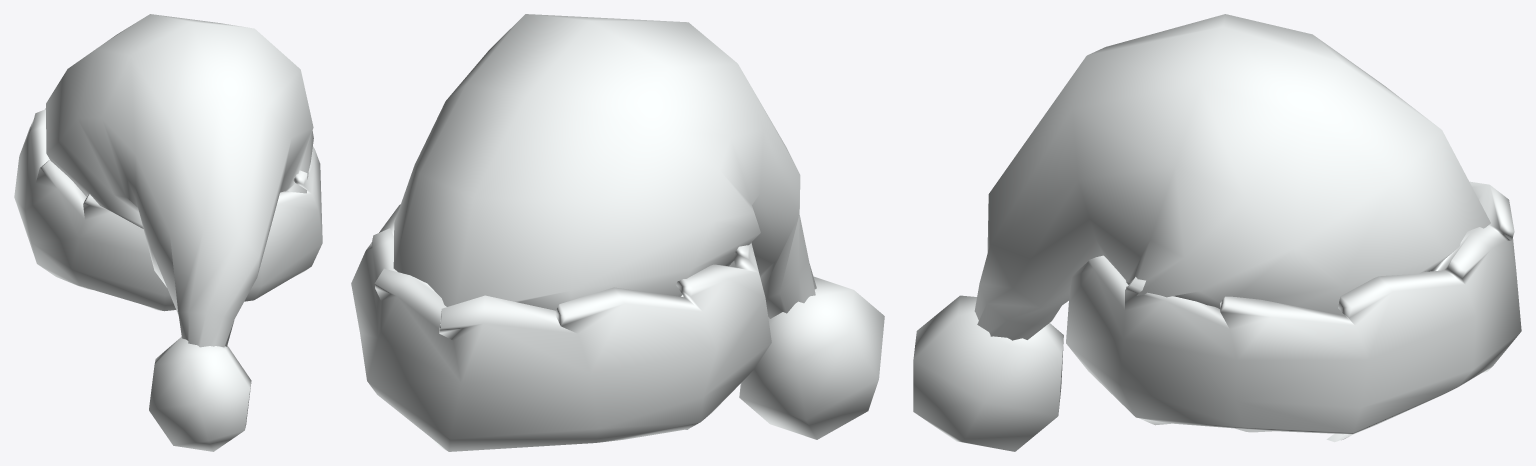
Rendered from Prop_SnowmanSantaHat.glb.
The picture shows the model from 3 angles, left to right: view 1: azimuth 30°, elevation 25°; view 2: azimuth 150°, elevation 25°; view 3: azimuth 270°, elevation 25°; orthographic projection. The views are drawn at different scales.
Parts seen in each view (by area): view 1: Prop_SnowmanSantaHat; view 2: Prop_SnowmanSantaHat; view 3: Prop_SnowmanSantaHat.
Boxes of the visible parts, x1,y1,x2,y2 form: Prop_SnowmanSantaHat: (14, 14, 322, 451); Prop_SnowmanSantaHat: (351, 14, 884, 451); Prop_SnowmanSantaHat: (913, 14, 1521, 451).
Size of the model in its own units: 0.3677 by 0.4538 by 0.5372.
Materials: 1 (1 with a texture image).
